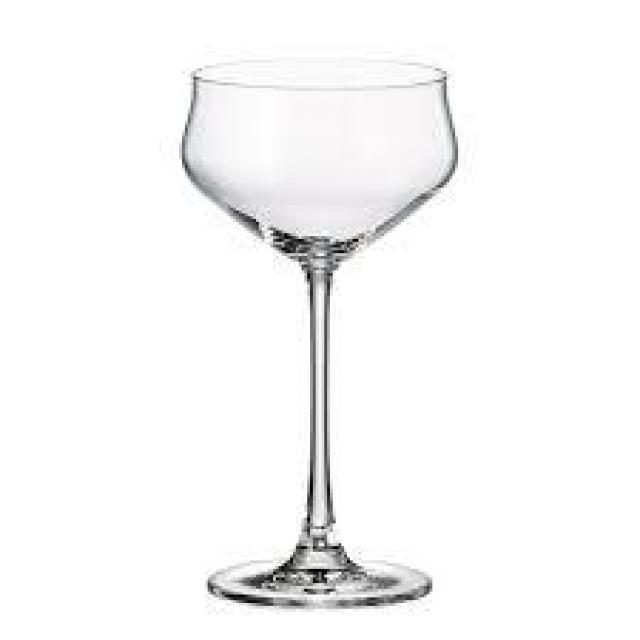non-organic waste: (178, 57, 462, 606)
